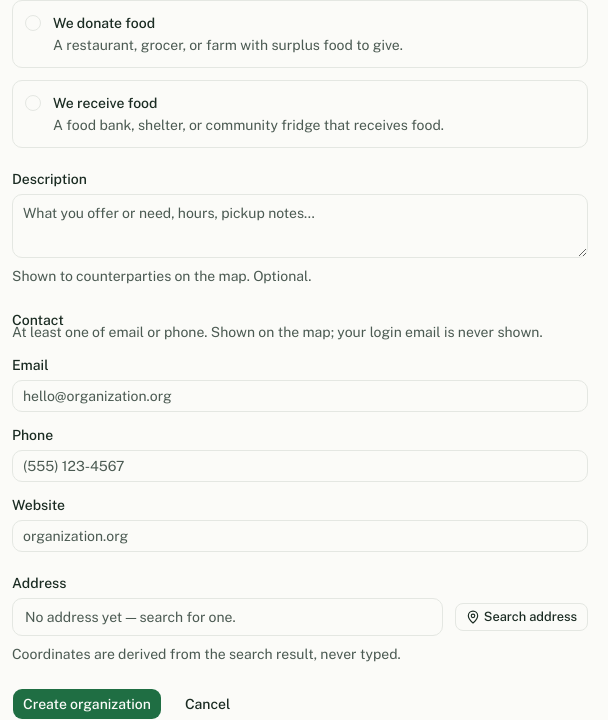
it: OrganizationForm › blocks submit and surfaces validation when empty
This screenshot has width=608, height=720.
(page scrolled)
Click the button "Create organization" at {"x": 87, "y": 704}, box [12, 688, 162, 719]
(page scrolled)
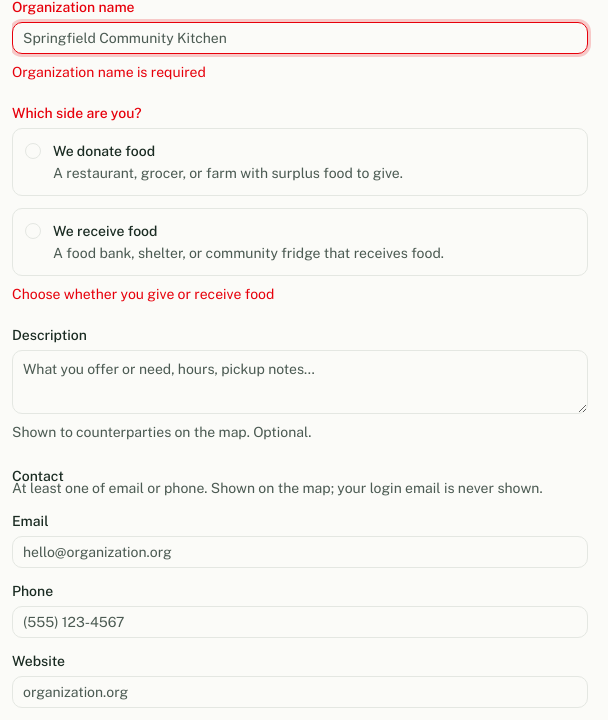
Now the text "Organization name is required" is shown, box [12, 64, 206, 80]
